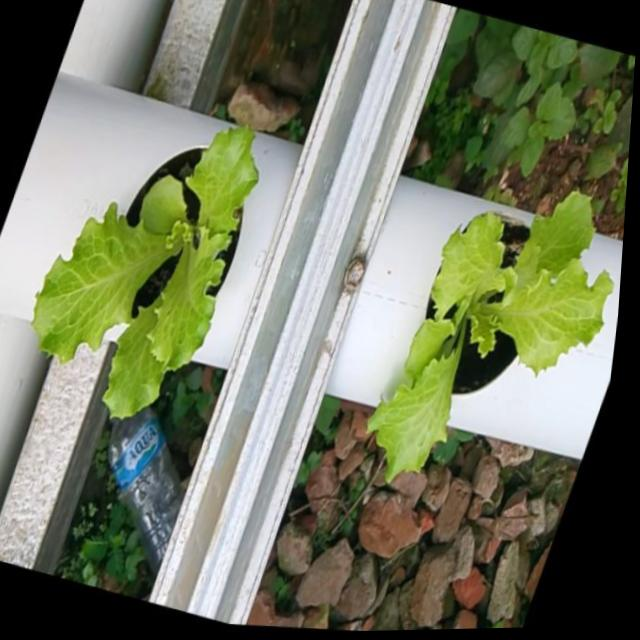Baby: (376, 181, 621, 475), (38, 116, 269, 413)
